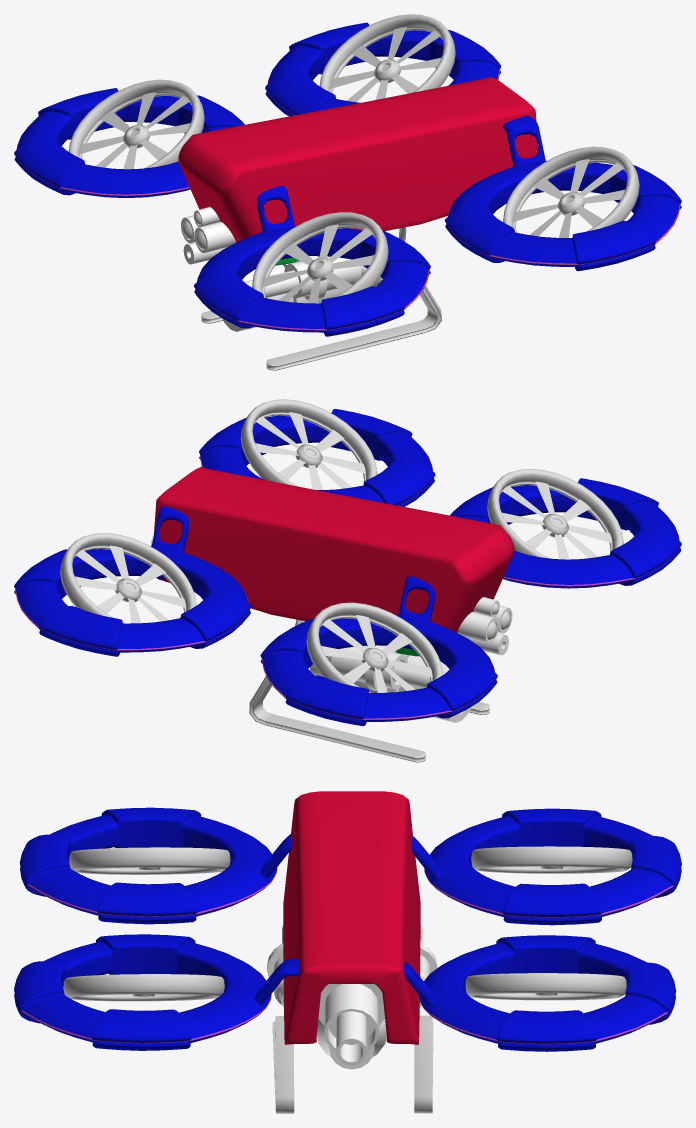
The model's file is SM_enemy_drone.fbx.
The picture shows the model from 3 angles, top to bottom: view 1: azimuth 30°, elevation 25°; view 2: azimuth 150°, elevation 25°; view 3: azimuth 270°, elevation 25°; orthographic projection. The views are drawn at different scales.
Parts seen in each view (by area): view 1: enemy_drone; view 2: enemy_drone; view 3: enemy_drone.
Part boxes in pixels (left/top/right/bottom): enemy_drone: left=14, top=14, right=681, bottom=370; enemy_drone: left=14, top=399, right=681, bottom=762; enemy_drone: left=14, top=791, right=681, bottom=1113.
Bounding box in the file's own units: 95.12 × 40.41 × 110.
